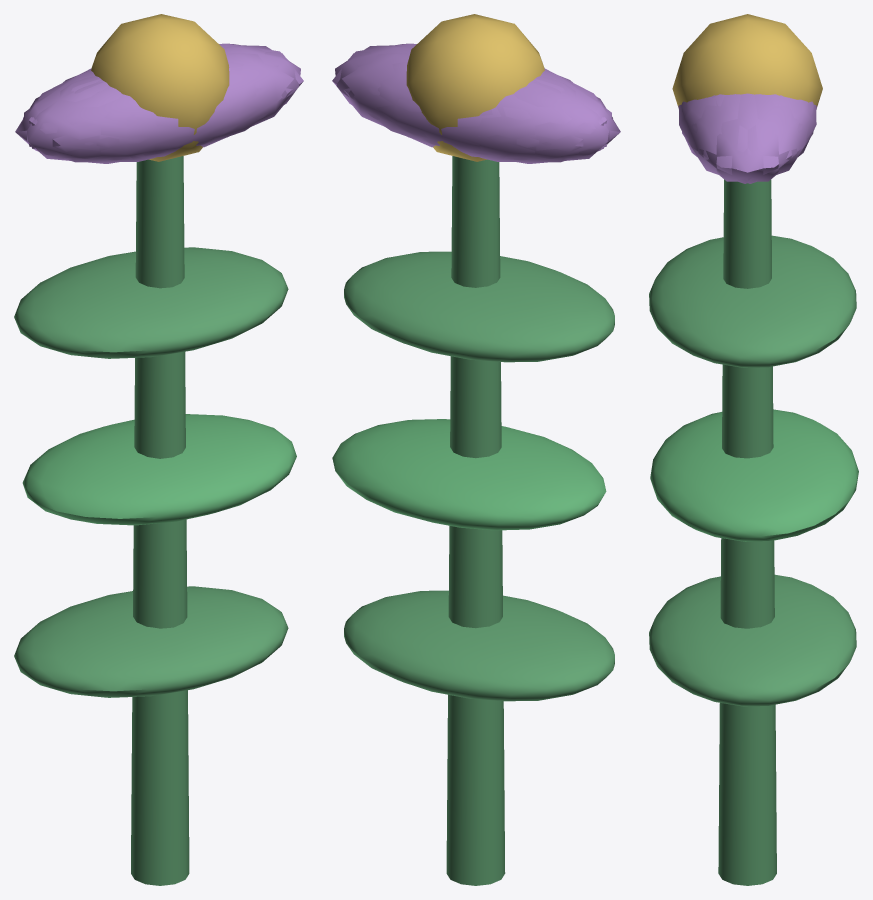
Rendered from abrus-precatorius.glb.
3 views of the same model, side by side, from view 1: azimuth 30°, elevation 25°; view 2: azimuth 150°, elevation 25°; view 3: azimuth 270°, elevation 25° (orthographic).
Parts seen in each view (by area): view 1: stem, leaf2, leaf0, leaf1, center, petal6, petal2, petal1, petal5, petal7, petal0; view 2: stem, leaf2, leaf1, leaf0, center, petal3, petal7, petal8, petal4, petal2, petal0; view 3: stem, leaf1, leaf2, leaf0, center, petal0, petal4, petal5, petal8, petal1.
Part boxes in pixels (x1,y1,x2,y2): stem: (131, 156, 189, 885); leaf2: (14, 247, 288, 358); leaf0: (14, 586, 288, 697); leaf1: (22, 414, 296, 525); center: (91, 14, 229, 161); petal6: (31, 81, 216, 162); petal2: (24, 76, 166, 163); petal1: (96, 61, 287, 160); petal5: (155, 52, 303, 153); petal7: (15, 71, 108, 155); petal0: (223, 45, 300, 137); stem: (446, 156, 505, 885); leaf2: (344, 251, 614, 362); leaf1: (332, 419, 606, 530); leaf0: (344, 590, 614, 701); center: (406, 14, 544, 161); petal3: (419, 81, 604, 162); petal7: (469, 76, 611, 163); petal8: (348, 61, 539, 160); petal4: (332, 52, 480, 153); petal2: (527, 71, 620, 155); petal0: (335, 45, 412, 137); stem: (718, 179, 776, 885); leaf1: (650, 409, 858, 541); leaf2: (649, 235, 856, 367); leaf0: (649, 574, 856, 706); center: (672, 14, 822, 106); petal0: (692, 93, 803, 181); petal4: (736, 94, 813, 183); petal5: (682, 94, 759, 183); petal8: (769, 94, 816, 157); petal1: (679, 94, 725, 157).
Size of the model in its own units: 0.1541 by 0.4501 by 0.1004.
